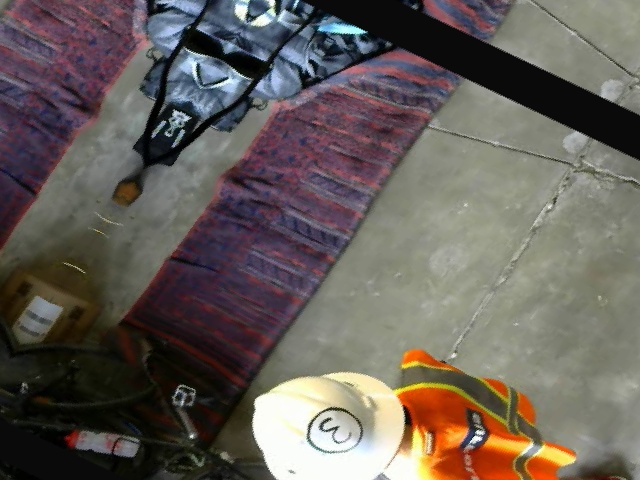three: (294, 399, 372, 463)
